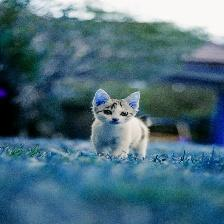kedo: (92, 88, 153, 160)
